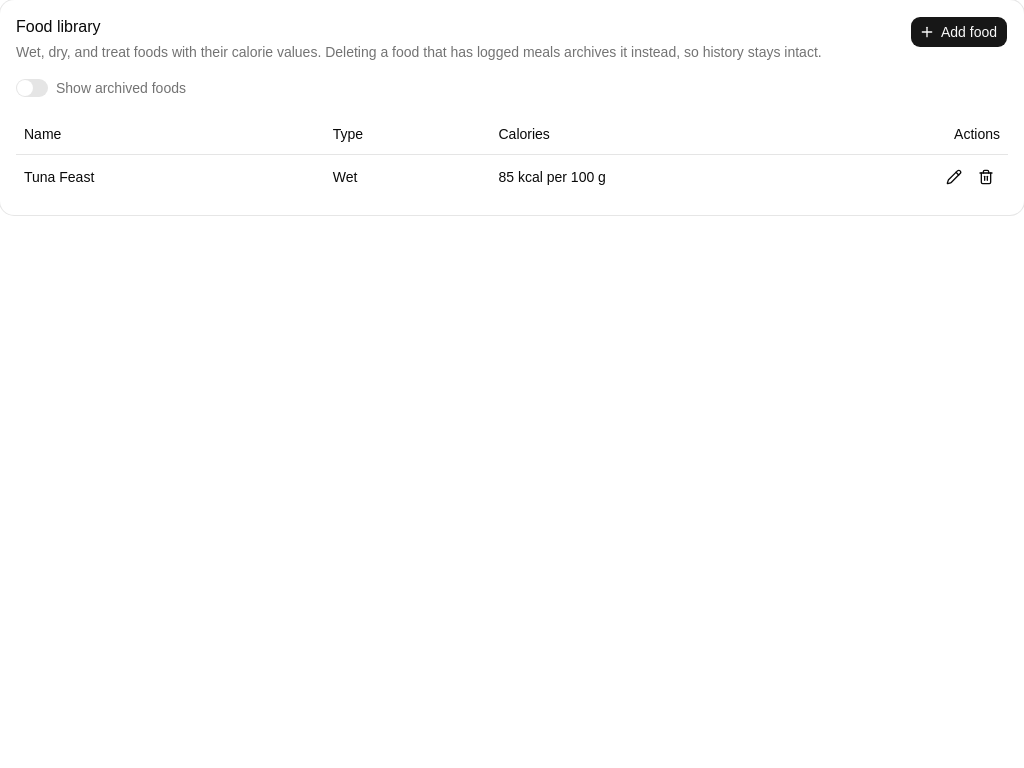
Scenario: hard delete without cleared defaults shows a plain success toast
Click the button named "Delete Tuna Feast": (986, 176) [972,162,1000,190]
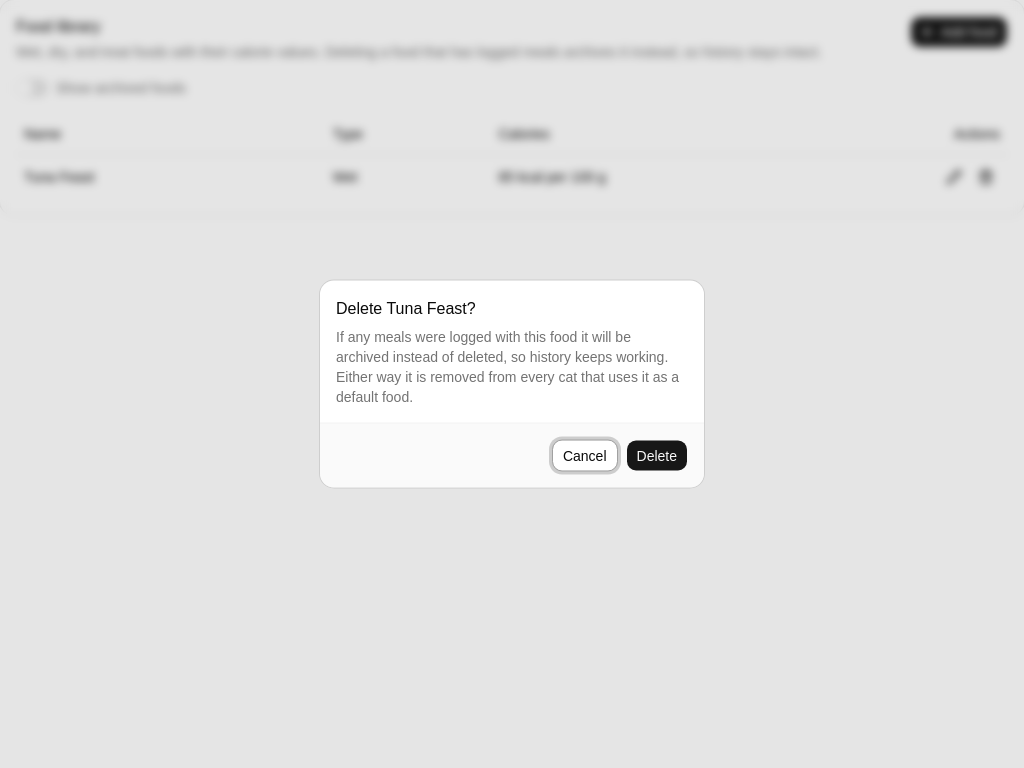
Click the button "Delete": (657, 456) [626,440,688,472]
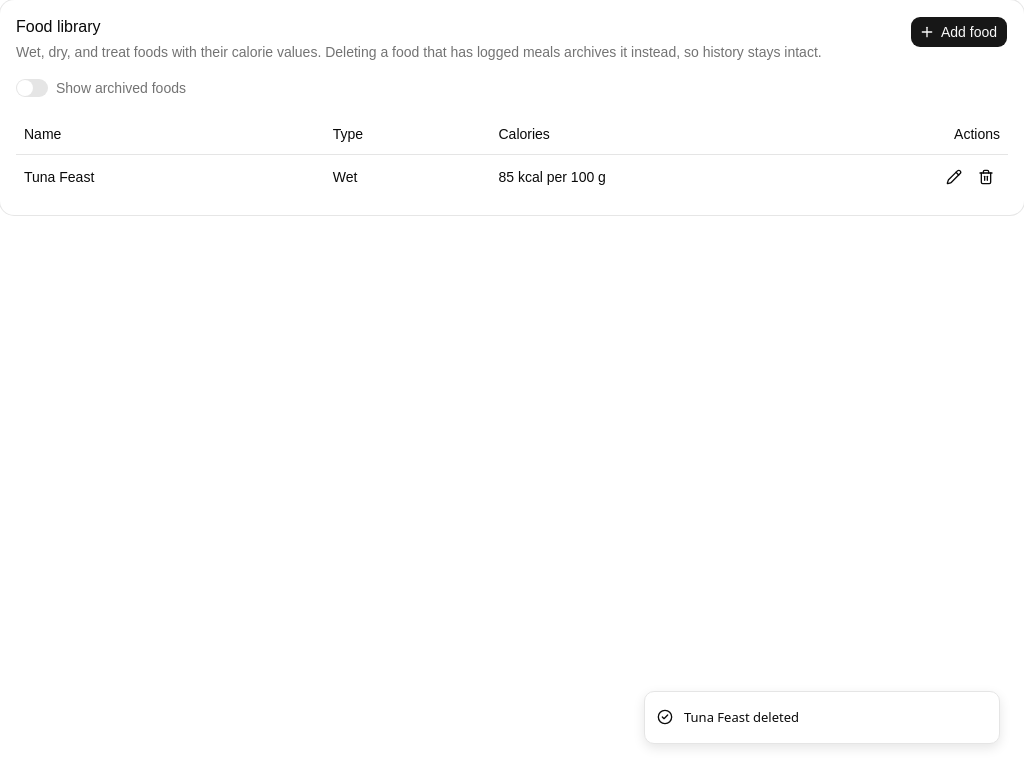
expect the text "Tuna Feast deleted" is shown: met, box [684,708,799,727]
